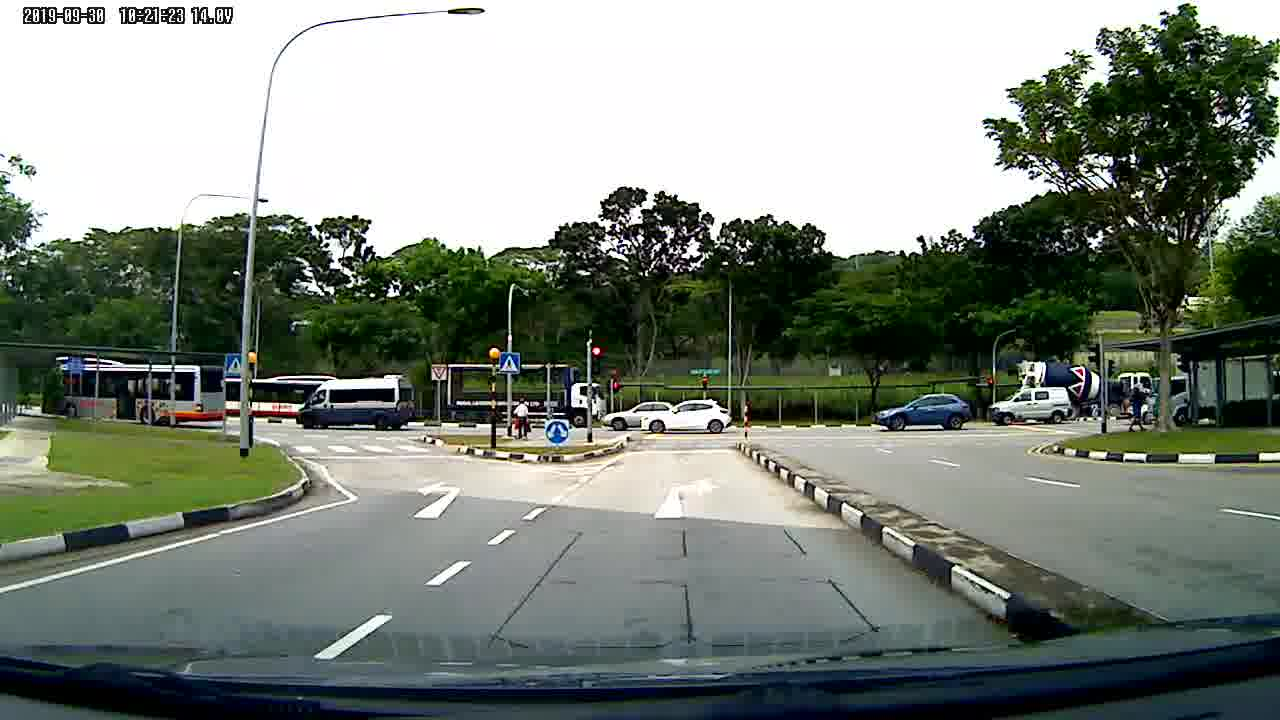bus: (34, 356, 229, 434), (226, 370, 342, 422)
car: (637, 401, 737, 435), (877, 396, 973, 431), (603, 399, 674, 439)
